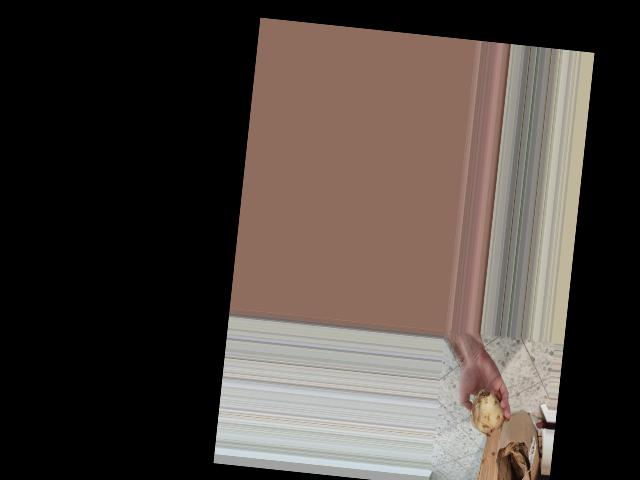onion: (465, 386, 508, 438)
